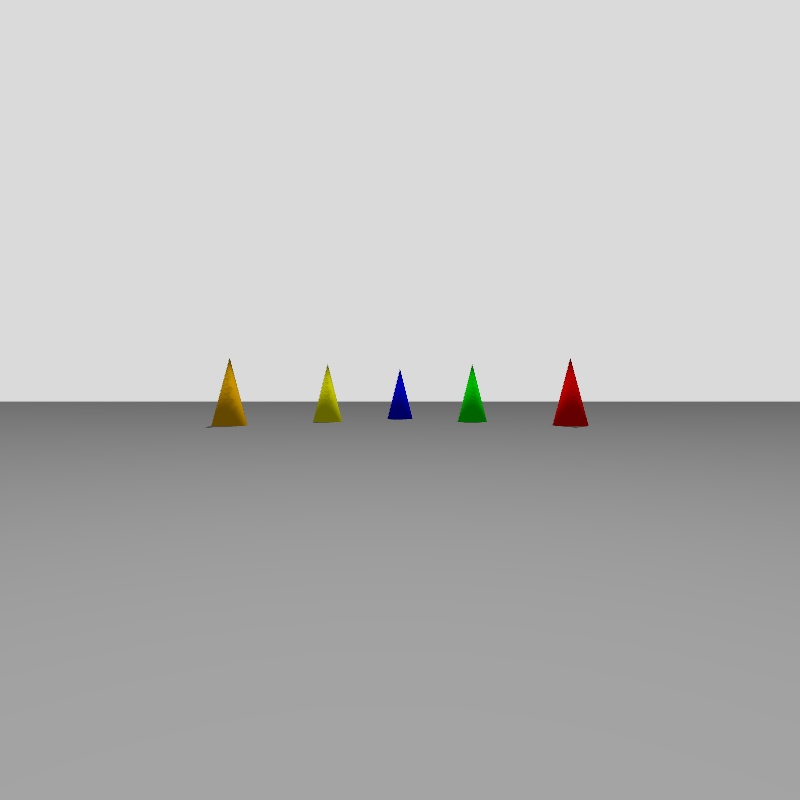Blue_cone: (387, 371, 410, 419)
Green_cone: (459, 366, 486, 422)
Orange_cone: (211, 360, 247, 426)
Red_cone: (553, 359, 587, 425)
Yellow_cone: (314, 366, 341, 422)
